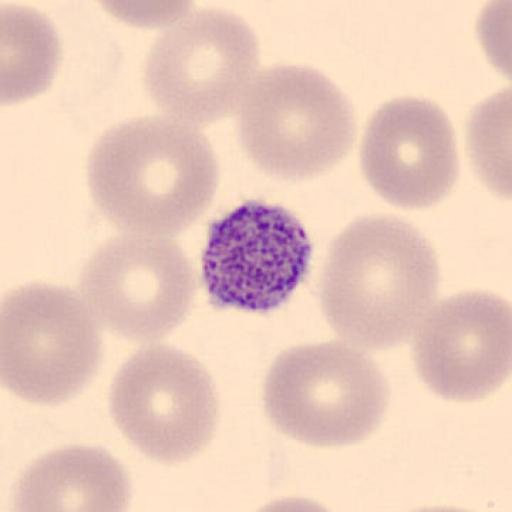Platelet: (195, 194, 317, 317)
RBC: (85, 113, 221, 241), (318, 212, 443, 350), (231, 60, 359, 184), (260, 337, 391, 450), (141, 5, 263, 125), (75, 229, 199, 344), (108, 341, 222, 466), (2, 280, 105, 408), (357, 92, 462, 212), (409, 286, 511, 404), (10, 441, 134, 512), (1, 2, 64, 108), (465, 84, 512, 204), (86, 0, 200, 31), (473, 0, 512, 83), (236, 493, 351, 512), (382, 502, 497, 512)
